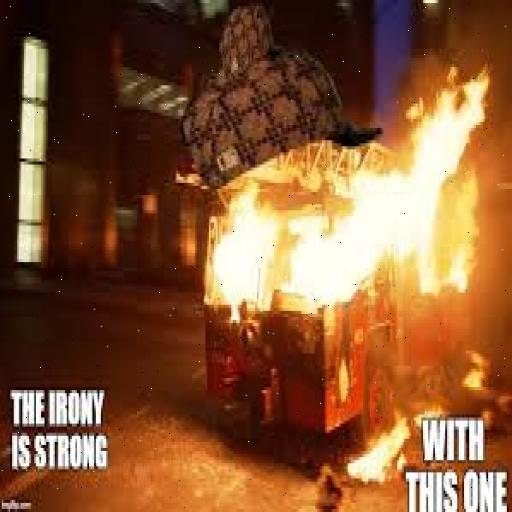fire: (214, 195, 476, 305), (406, 46, 500, 183)
